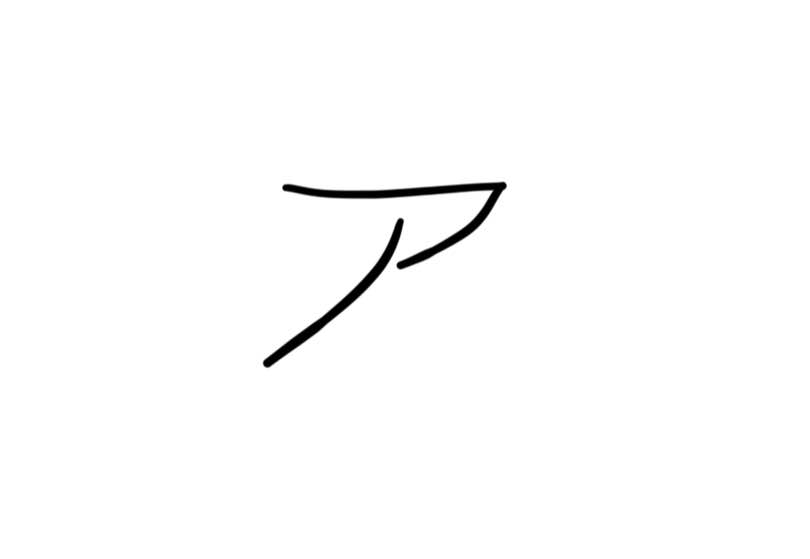a: (232, 159, 517, 379)
